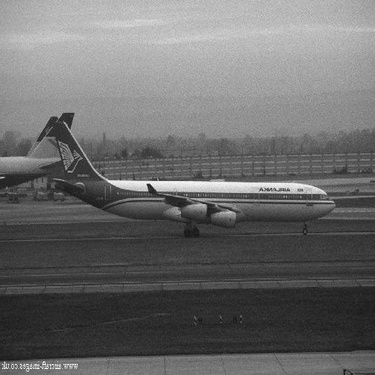airplane: (8, 87, 350, 255)
